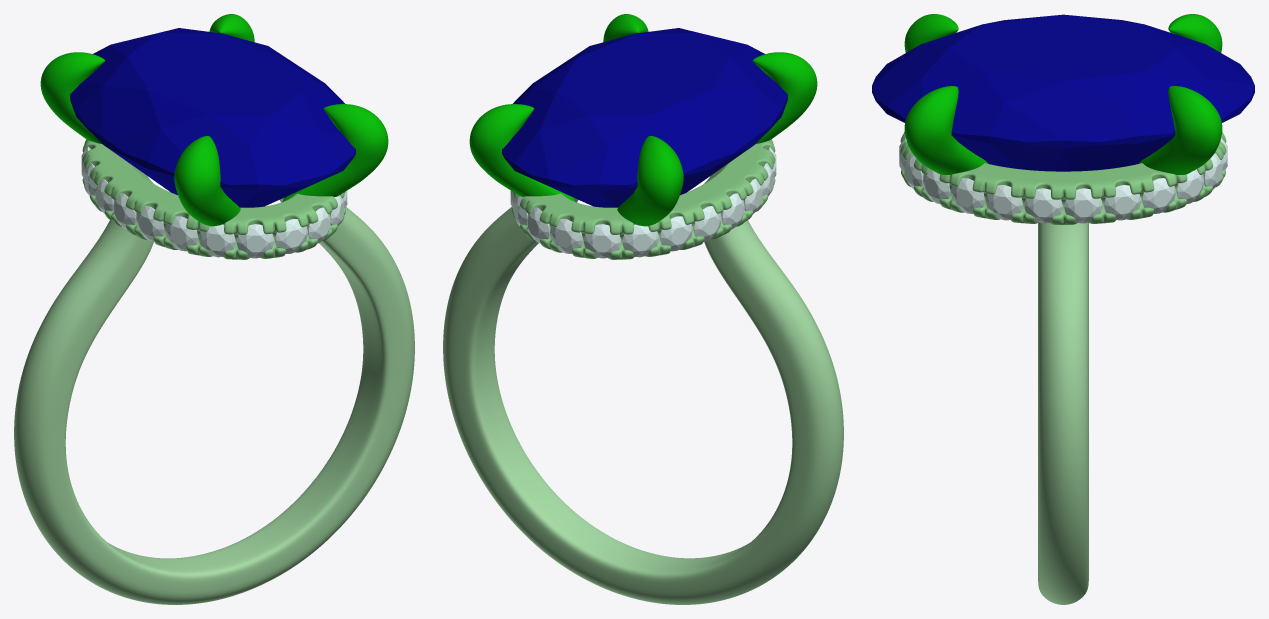
Rendered from GLB Sample with Mapping.glb.
3 views of the same model, side by side, from view 1: azimuth 30°, elevation 25°; view 2: azimuth 150°, elevation 25°; view 3: azimuth 270°, elevation 25° (orthographic). The views are drawn at different scales.
Parts seen in each view (by area): view 1: /R02237.3dm, Diamond_Oval, Diamond_Round (×6); view 2: /R02237.3dm, Diamond_Oval, Diamond_Round (×6); view 3: Diamond_Oval, /R02237.3dm, Diamond_Round (×8).
Part boxes in pixels (x1=…): /R02237.3dm: x1=14, y1=14, x2=414, y2=604; Diamond_Oval: x1=70, y1=28, x2=355, y2=207; Diamond_Round (×6): x1=136, y1=206, x2=330, y2=258; /R02237.3dm: x1=443, y1=14, x2=843, y2=604; Diamond_Oval: x1=502, y1=28, x2=787, y2=207; Diamond_Round (×6): x1=527, y1=206, x2=721, y2=258; Diamond_Oval: x1=872, y1=14, x2=1254, y2=171; /R02237.3dm: x1=900, y1=14, x2=1226, y2=604; Diamond_Round (×8): x1=923, y1=169, x2=1203, y2=223.
Bounding box in the file's own units: 2.21 × 2.8 × 1.81.
